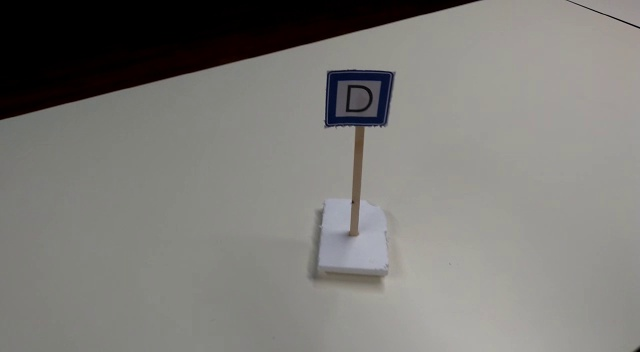durak: (324, 71, 395, 126)
